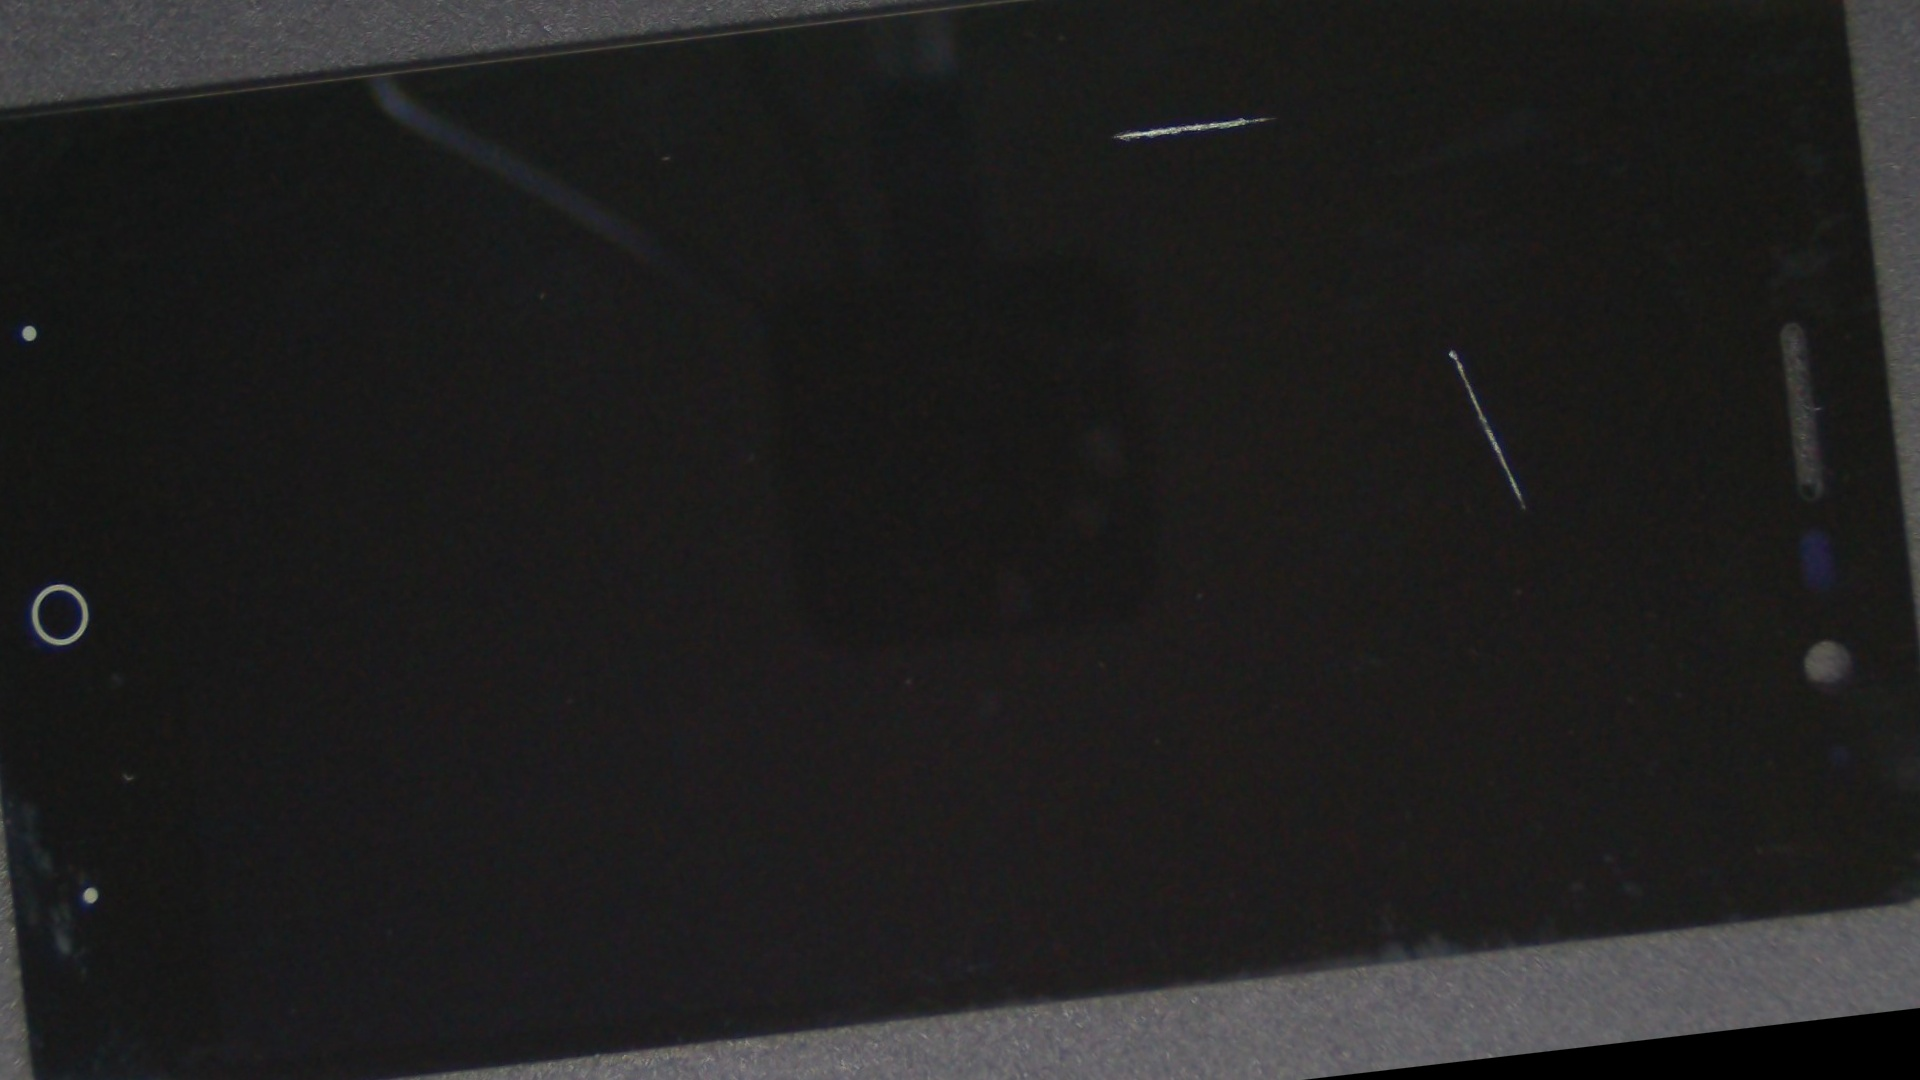oil: (659, 20, 1920, 705), (496, 0, 1760, 343)
